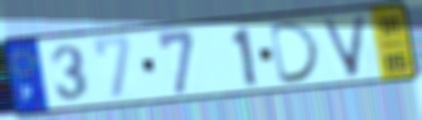1: (229, 24, 259, 89)
3: (47, 42, 90, 103)
7: (90, 33, 139, 103), (155, 29, 198, 98)
D: (267, 18, 324, 87)
V: (318, 13, 371, 80)
